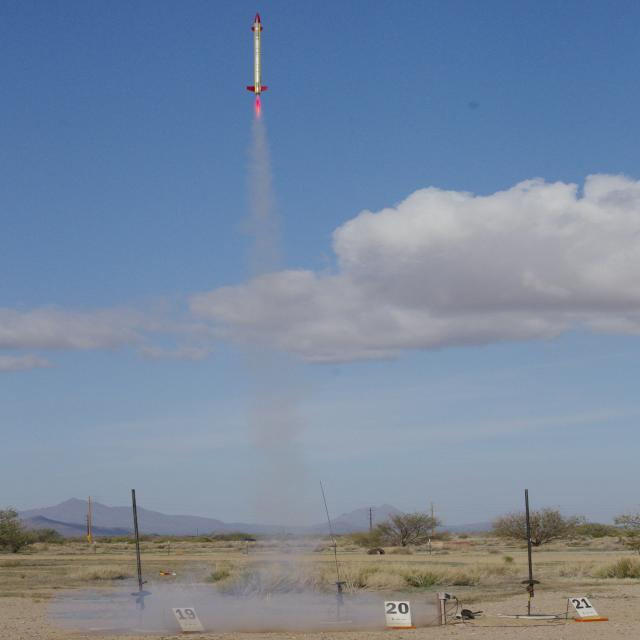Rocket: (246, 13, 268, 96)
